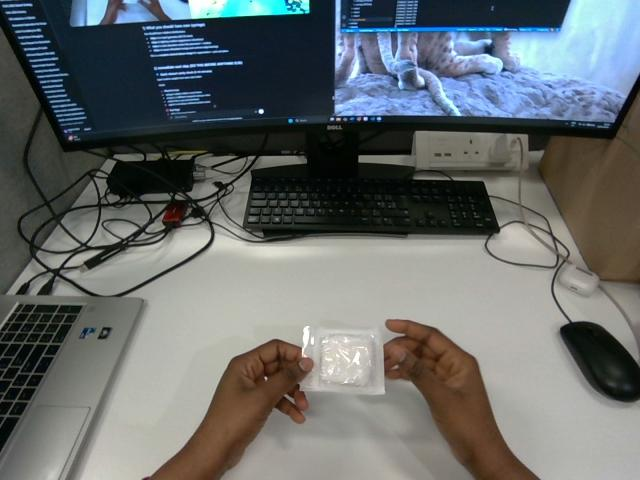gauze: (300, 326, 384, 394)
